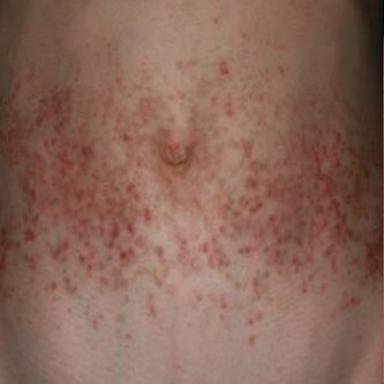Darier_s-Disease: (0, 60, 382, 342)
